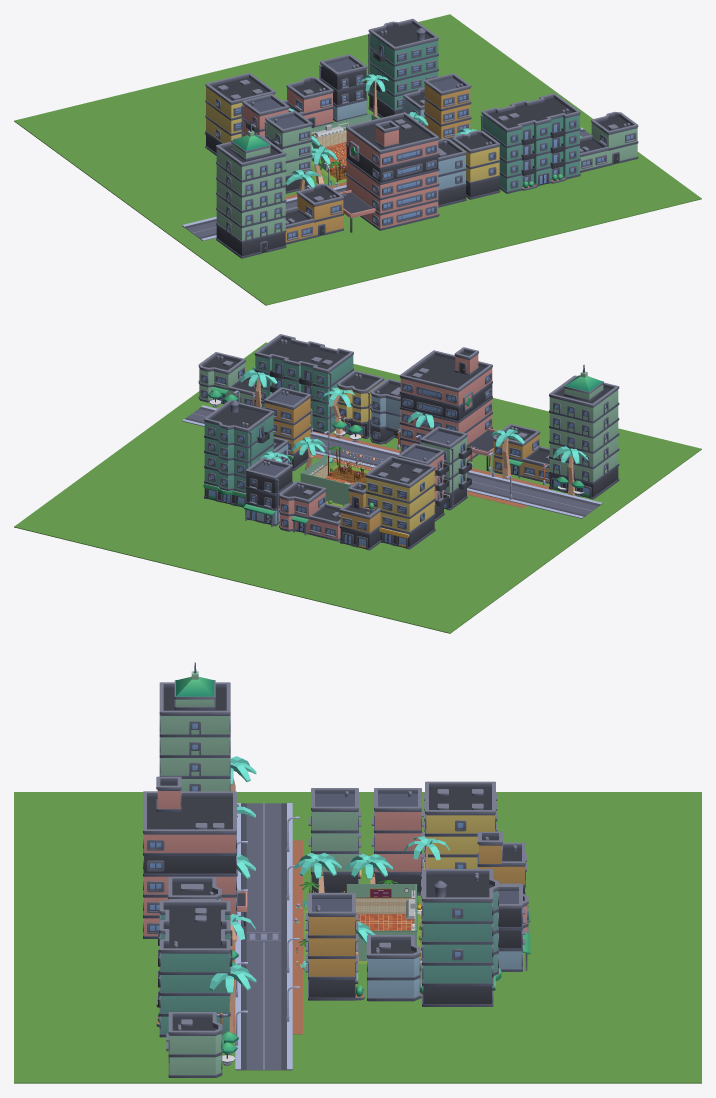
Rendered from Kitchen_Myanmar.glb.
3 renders of one model, top to bottom at view 1: azimuth 30°, elevation 25°; view 2: azimuth 150°, elevation 25°; view 3: azimuth 270°, elevation 25°, orthographic. The views are drawn at different scales.
Visible parts, largest first — view 1: Backdrop_Ground_MM, KN_building-n.001_MM, KN_building-m.001_MM, KN_building-j.001_MM, KN_building-l.001_MM, KN_building-i.001_MM, KN_building-e.001_MM, KN_building-e.002_MM, KN_building-f.001_MM, KN_building-h.001_MM, KN_building-g.001_MM, KN_building-a.001_MM (+6 smaller); view 2: Backdrop_Ground_MM, KN_building-n.001_MM, KN_building-m.001_MM, KN_building-l.001_MM, KN_building-j.001_MM, KN_building-i.001_MM, KN_building-e.003_MM, KN_building-h.001_MM, KN_building-f.001_MM, KN_building-e.001_MM, KN_building-e.002_MM, KN_building-g.001_MM (+11 smaller); view 3: Backdrop_Ground_MM, KN_building-l.001_MM, KN_building-n.001_MM, KN_building-j.001_MM, KN_building-m.001_MM, KN_building-f.001_MM, KN_building-i.001_MM, KN_building-g.001_MM, KN_building-g.002_MM, KN_building-e.002_MM, KN_building-c.001_MM, KN_building-h.001_MM (+16 smaller).
Part boxes in pixels (x1,y1,x2,y2): Backdrop_Ground_MM: [14, 14, 701, 305]; KN_building-n.001_MM: [339, 112, 439, 232]; KN_building-m.001_MM: [216, 124, 286, 258]; KN_building-j.001_MM: [480, 93, 580, 193]; KN_building-l.001_MM: [368, 18, 438, 117]; KN_building-i.001_MM: [204, 73, 275, 155]; KN_building-e.001_MM: [285, 183, 343, 244]; KN_building-e.002_MM: [580, 112, 638, 172]; KN_building-f.001_MM: [424, 73, 471, 141]; KN_building-h.001_MM: [319, 54, 367, 121]; KN_building-g.001_MM: [264, 110, 312, 193]; KN_building-a.001_MM: [452, 130, 500, 199]; Backdrop_Ground_MM: [14, 342, 701, 633]; KN_building-n.001_MM: [399, 347, 497, 470]; KN_building-m.001_MM: [549, 364, 619, 499]; KN_building-l.001_MM: [203, 400, 274, 507]; KN_building-j.001_MM: [254, 334, 353, 434]; KN_building-i.001_MM: [365, 456, 435, 549]; KN_building-e.003_MM: [279, 481, 341, 541]; KN_building-h.001_MM: [243, 457, 292, 526]; KN_building-f.001_MM: [264, 387, 311, 470]; KN_building-e.001_MM: [492, 424, 549, 483]; KN_building-e.002_MM: [198, 352, 255, 406]; KN_building-g.001_MM: [420, 426, 471, 510]; Backdrop_Ground_MM: [14, 792, 701, 1083]; KN_building-l.001_MM: [421, 869, 501, 1006]; KN_building-n.001_MM: [143, 776, 247, 938]; KN_building-j.001_MM: [156, 900, 233, 1037]; KN_building-m.001_MM: [159, 662, 230, 791]; KN_building-f.001_MM: [305, 893, 364, 1000]; KN_building-i.001_MM: [424, 781, 497, 868]; KN_building-g.001_MM: [308, 788, 361, 892]; KN_building-g.002_MM: [371, 788, 424, 895]; KN_building-e.002_MM: [166, 1012, 223, 1077]; KN_building-c.001_MM: [367, 935, 423, 1001]; KN_building-h.001_MM: [498, 885, 530, 971].
Bounding box in the file's own units: 60 × 18.07 × 60.
Materials: 101 (22 with a texture image).
